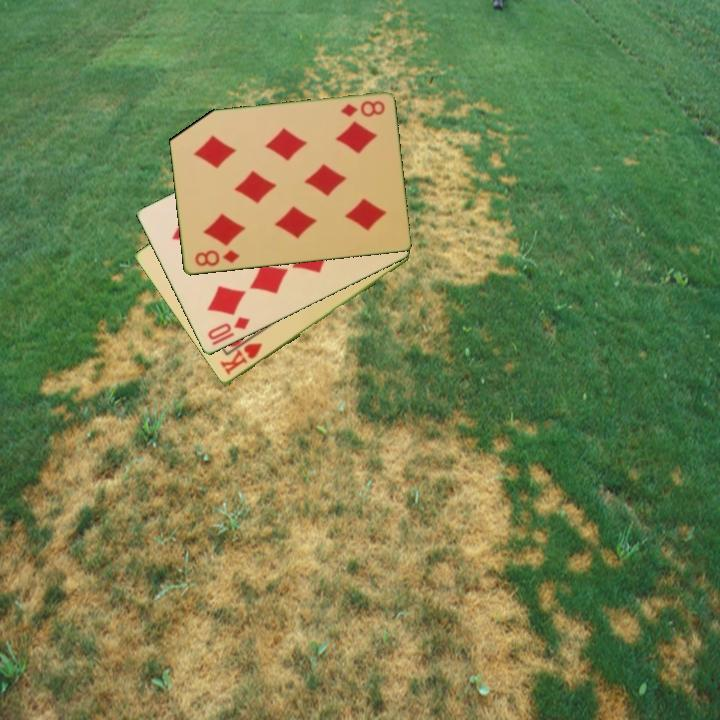10d: (204, 314, 253, 343)
8d: (191, 247, 242, 270), (337, 97, 387, 120)
Kh: (217, 340, 265, 378)
